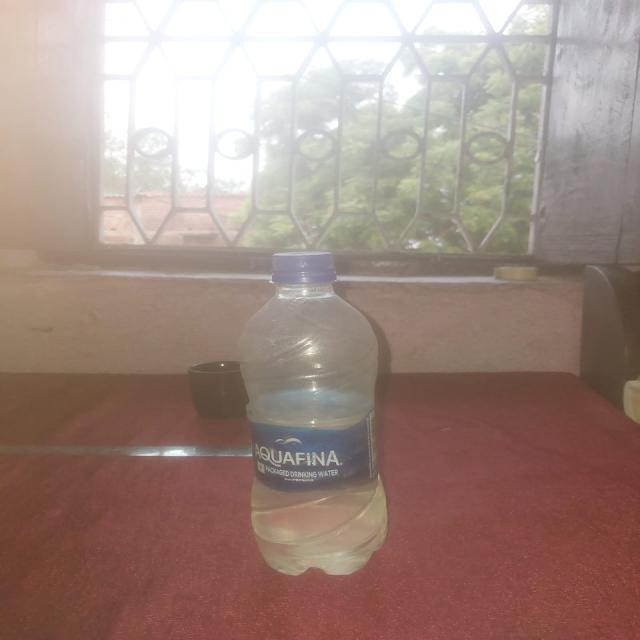Bottle: (244, 250, 385, 570)
